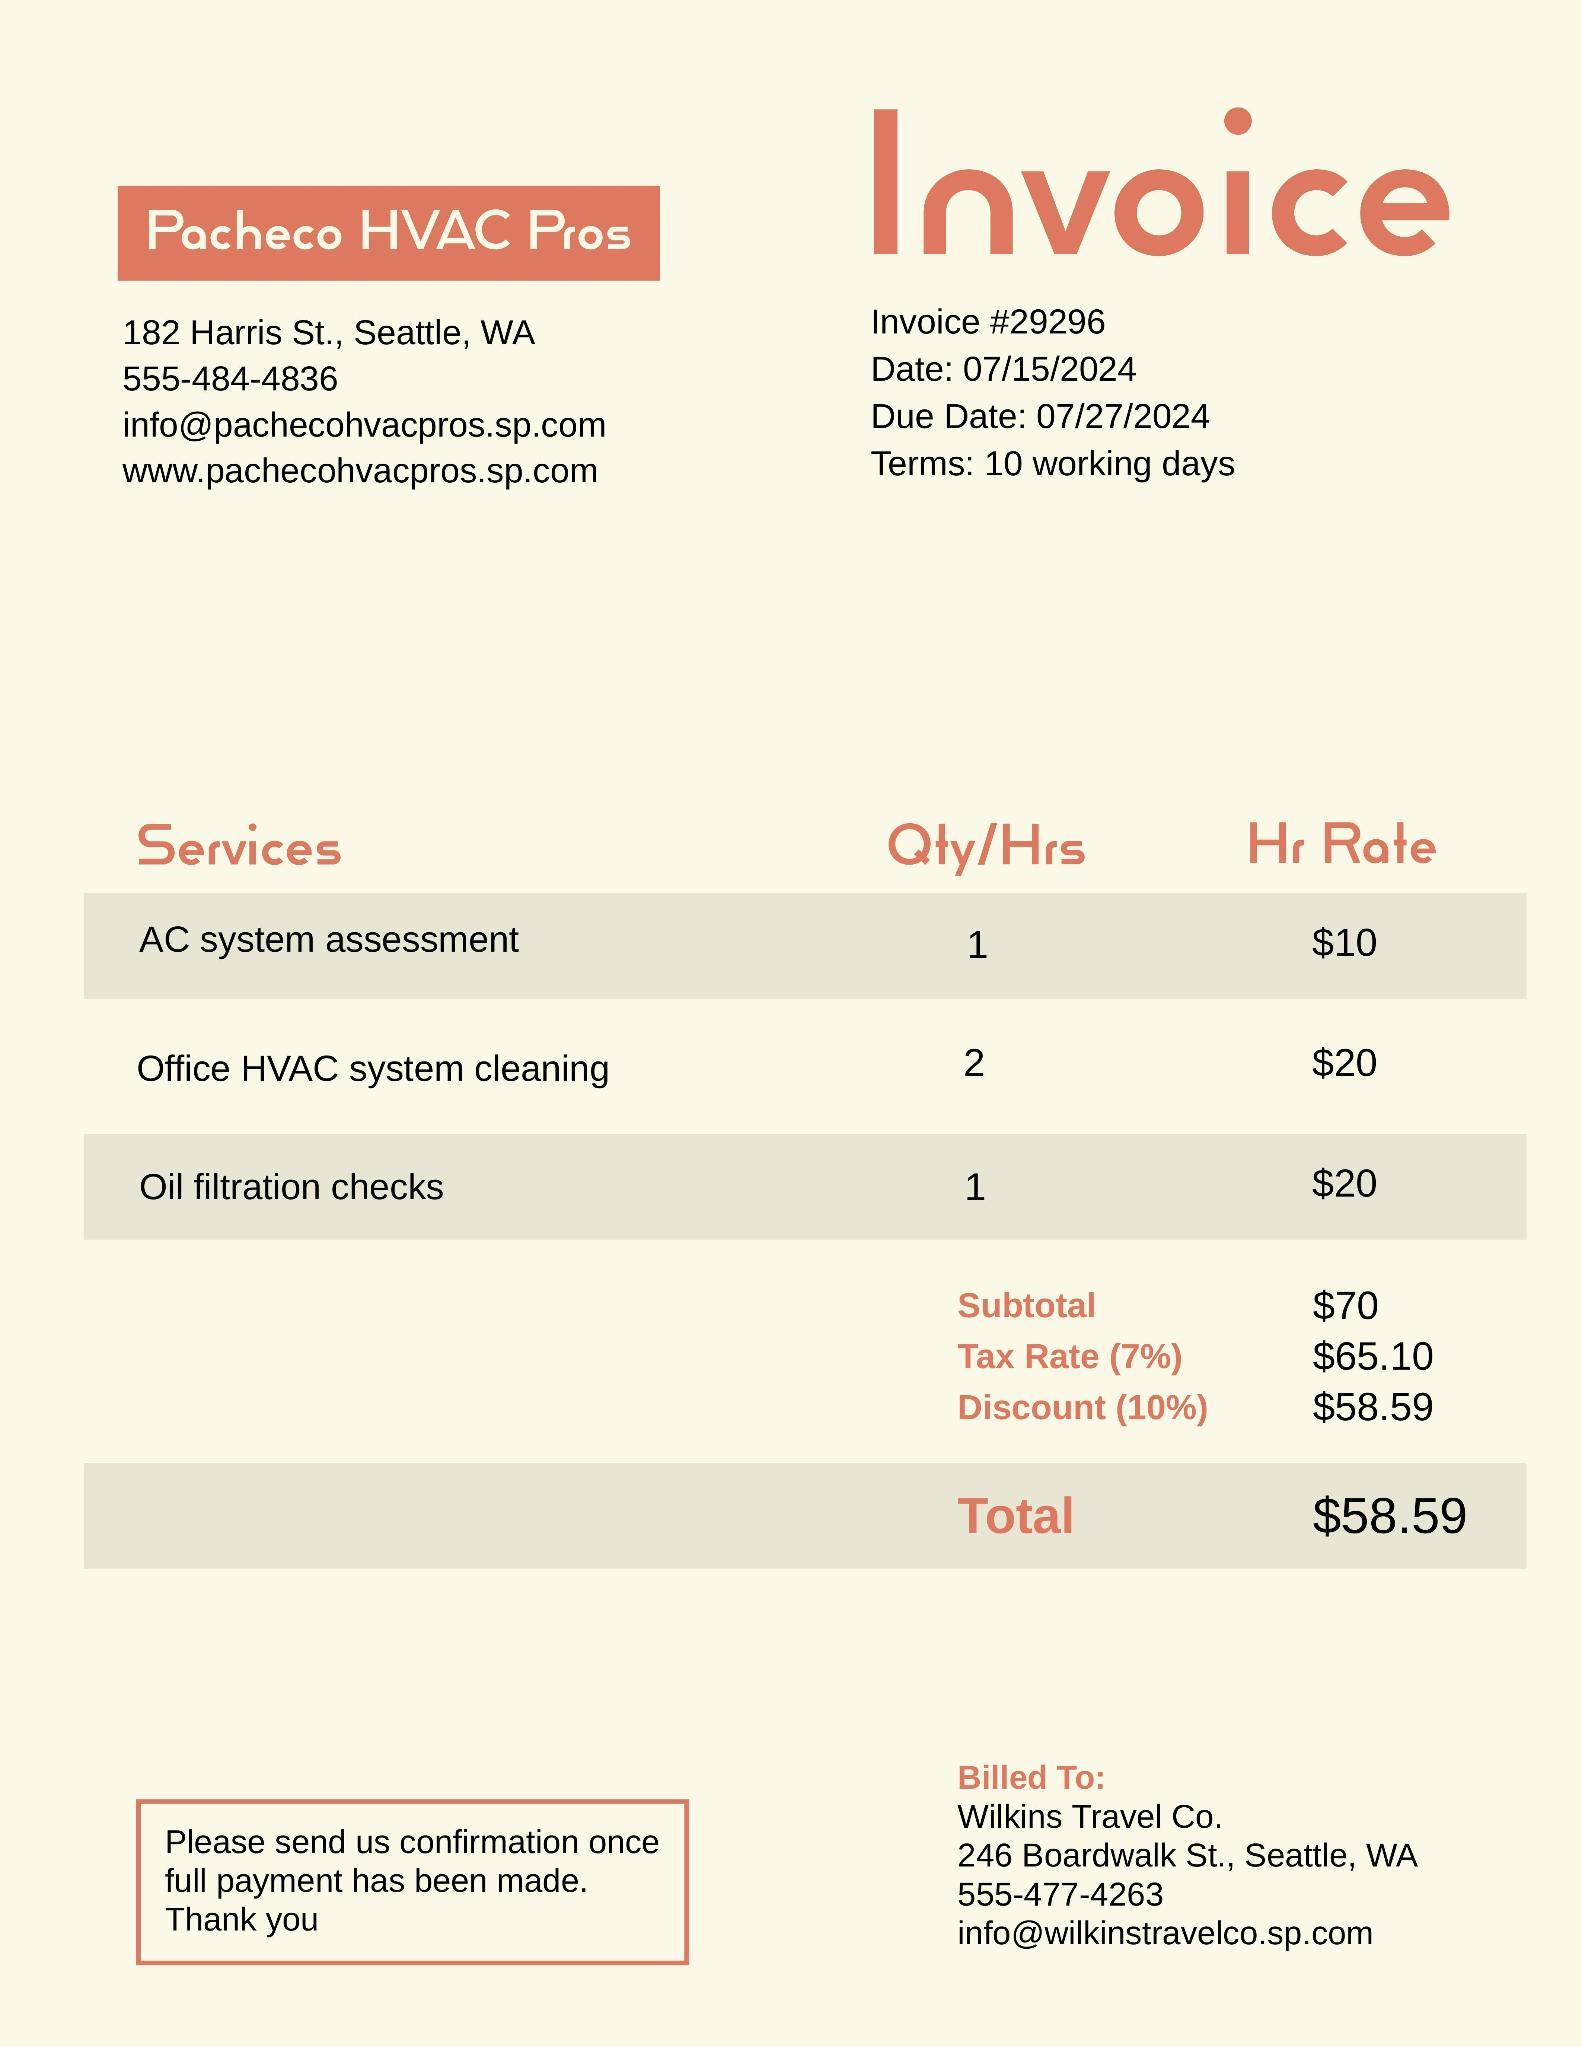ROI: (86, 773, 1525, 1239), (80, 158, 696, 510), (944, 1268, 1516, 1568), (942, 1733, 1471, 1989), (836, 71, 1486, 268), (141, 1799, 690, 1984), (851, 287, 1266, 508)
